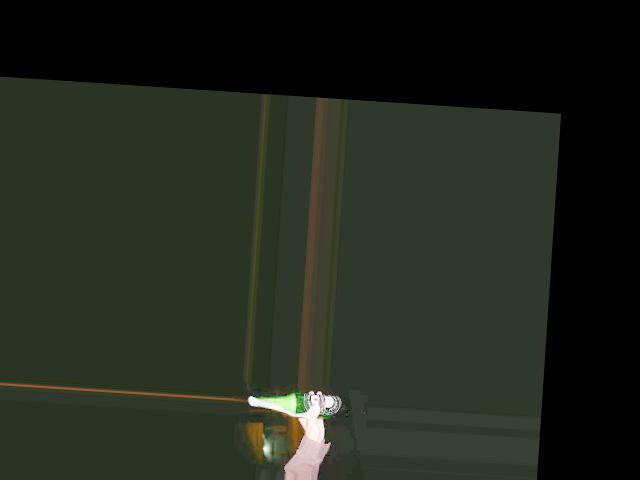beer: (251, 388, 344, 420)
